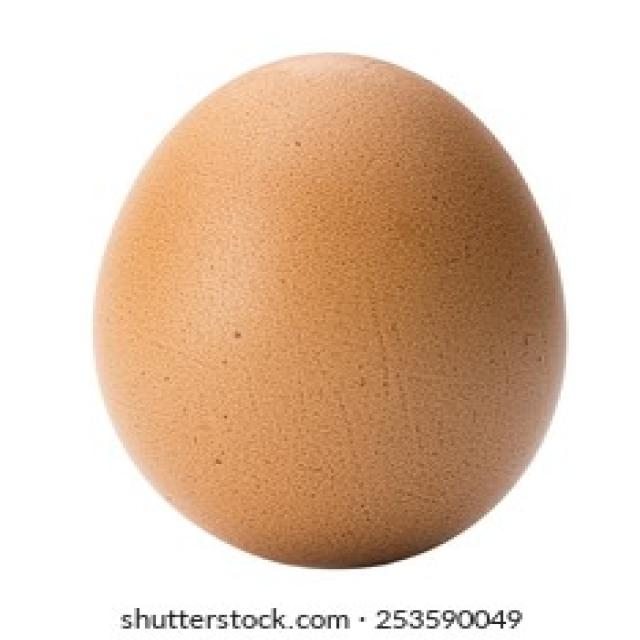Brown Egg: (81, 42, 576, 572)
